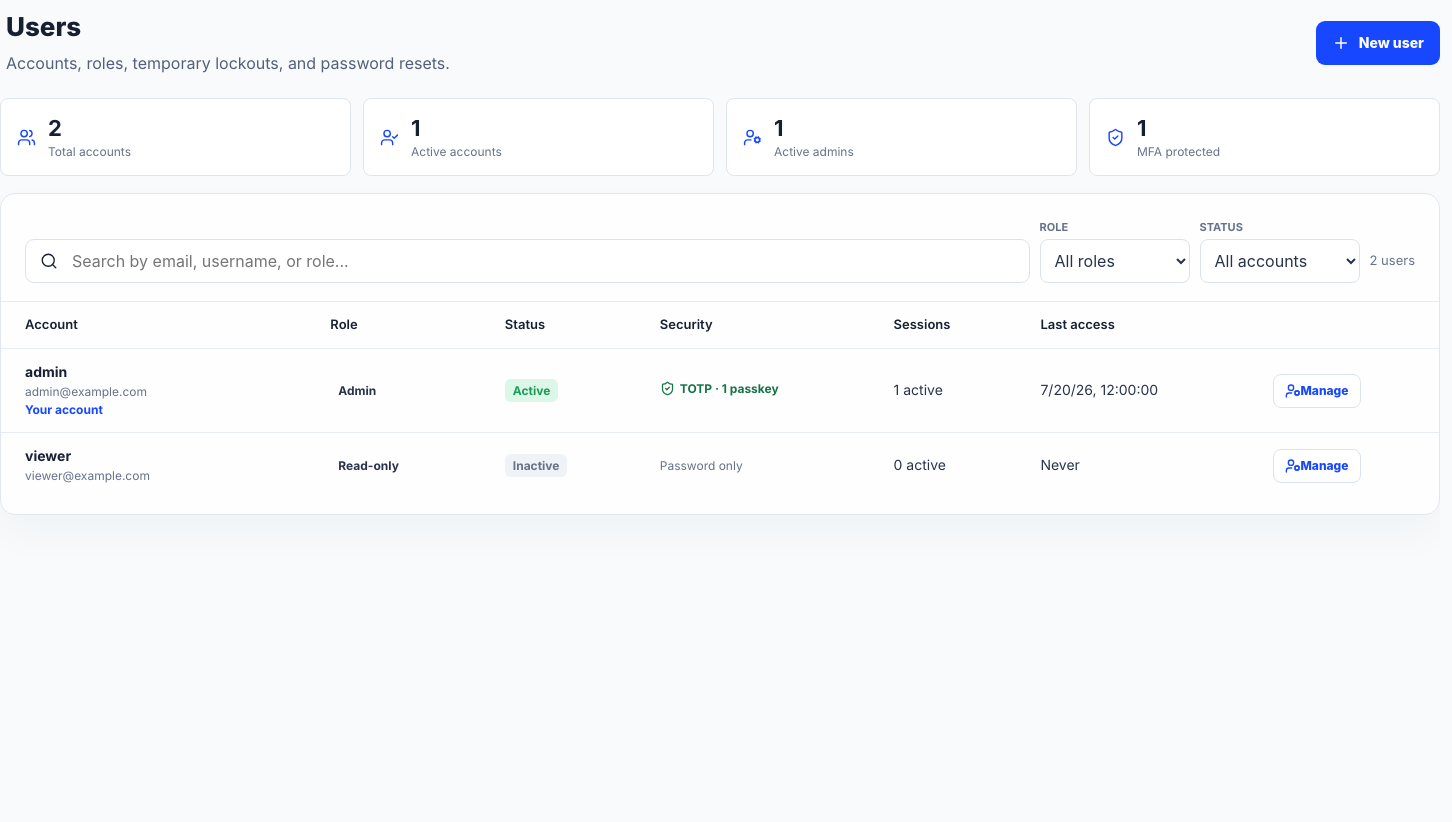
Test: UsersView › protects the current administrator role and account status
Click the button "Manage" in the row of "admin@example.com": (1316,390) [1272, 374, 1360, 408]
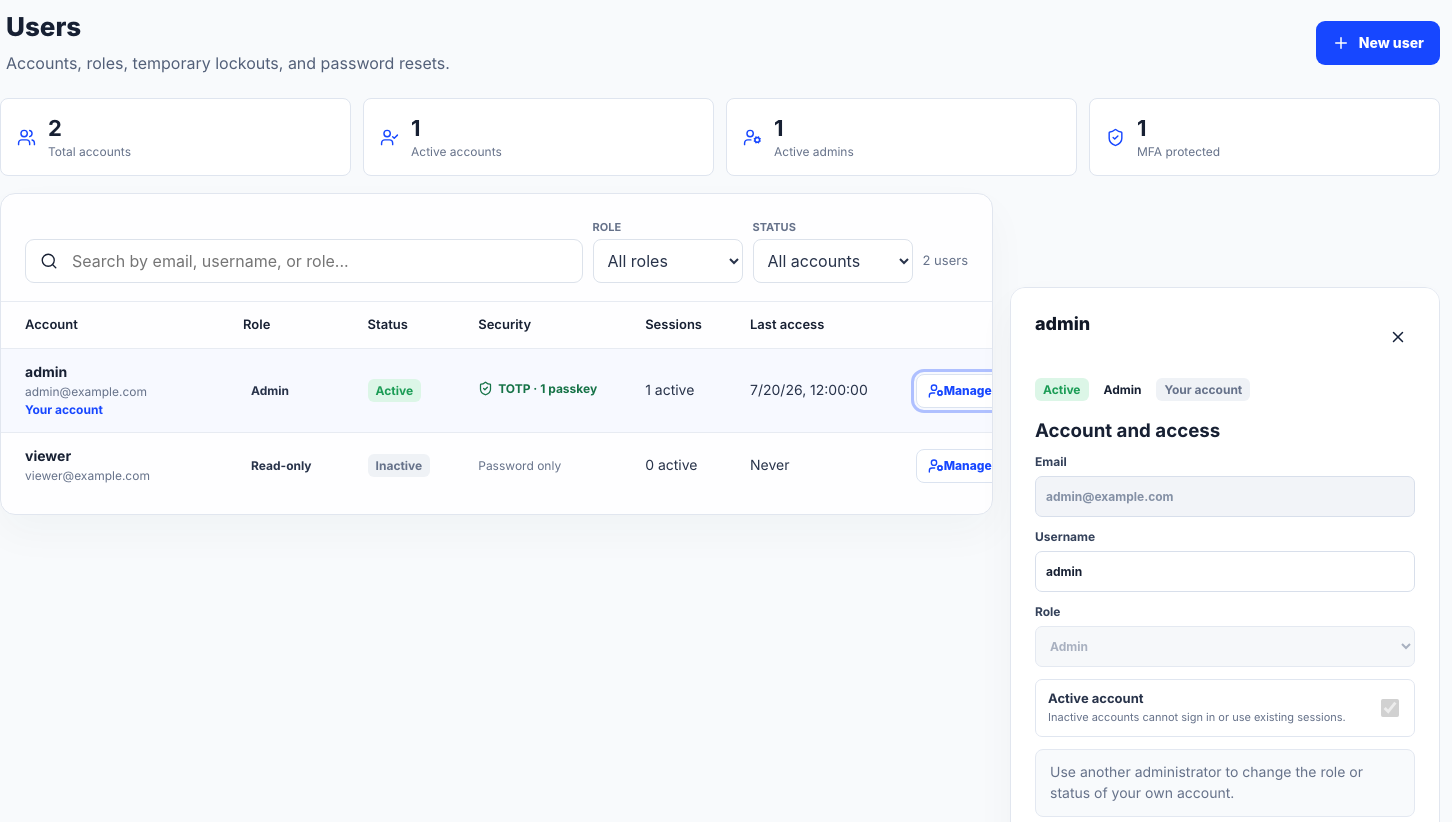
expect the dropdown labelled "Role" below "Username" is disabled: met, box [1035, 626, 1415, 667]
expect the checkbox labelled "Active account" is disabled: met, box [1381, 699, 1399, 717]
expect the text "Use another administrator" is shown: met, box [1050, 764, 1363, 802]
